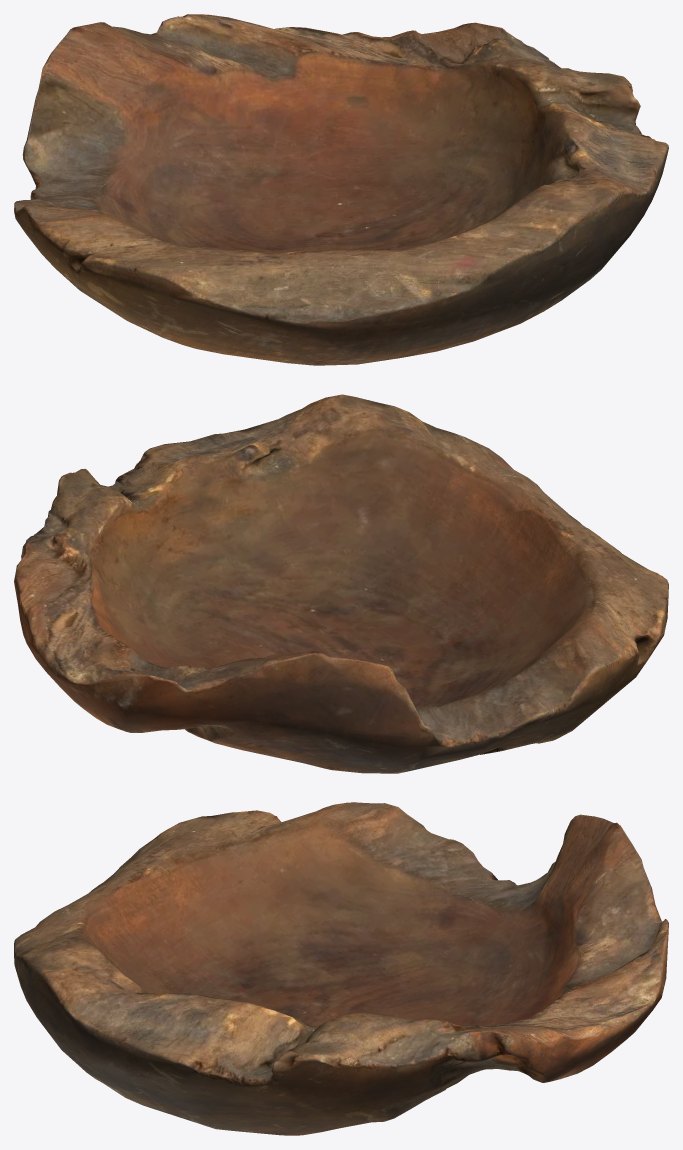
File: bowl.glb
3 renders of one model, top to bottom at view 1: azimuth 30°, elevation 25°; view 2: azimuth 150°, elevation 25°; view 3: azimuth 270°, elevation 25°, orthographic. The views are drawn at different scales.
Visible parts, largest first — view 1: wooden_bowl_01; view 2: wooden_bowl_01; view 3: wooden_bowl_01.
Boxes of the visible parts, x1=… form: wooden_bowl_01: x1=14, y1=14, x2=668, y2=365; wooden_bowl_01: x1=14, y1=394, x2=668, y2=773; wooden_bowl_01: x1=14, y1=802, x2=668, y2=1135.
Bounding box in the file's own units: 0.313 × 0.0937 × 0.3091.
1 material, 1 textured.
